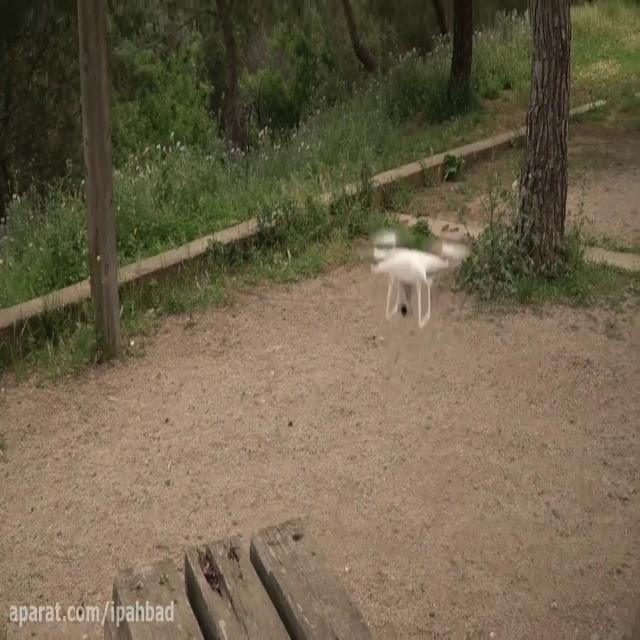drone: (365, 226, 469, 324)
